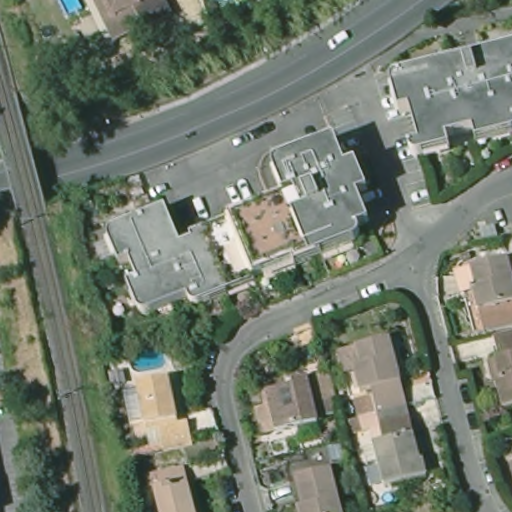pool: (129, 350, 169, 373), (62, 1, 84, 16), (383, 489, 395, 505)
